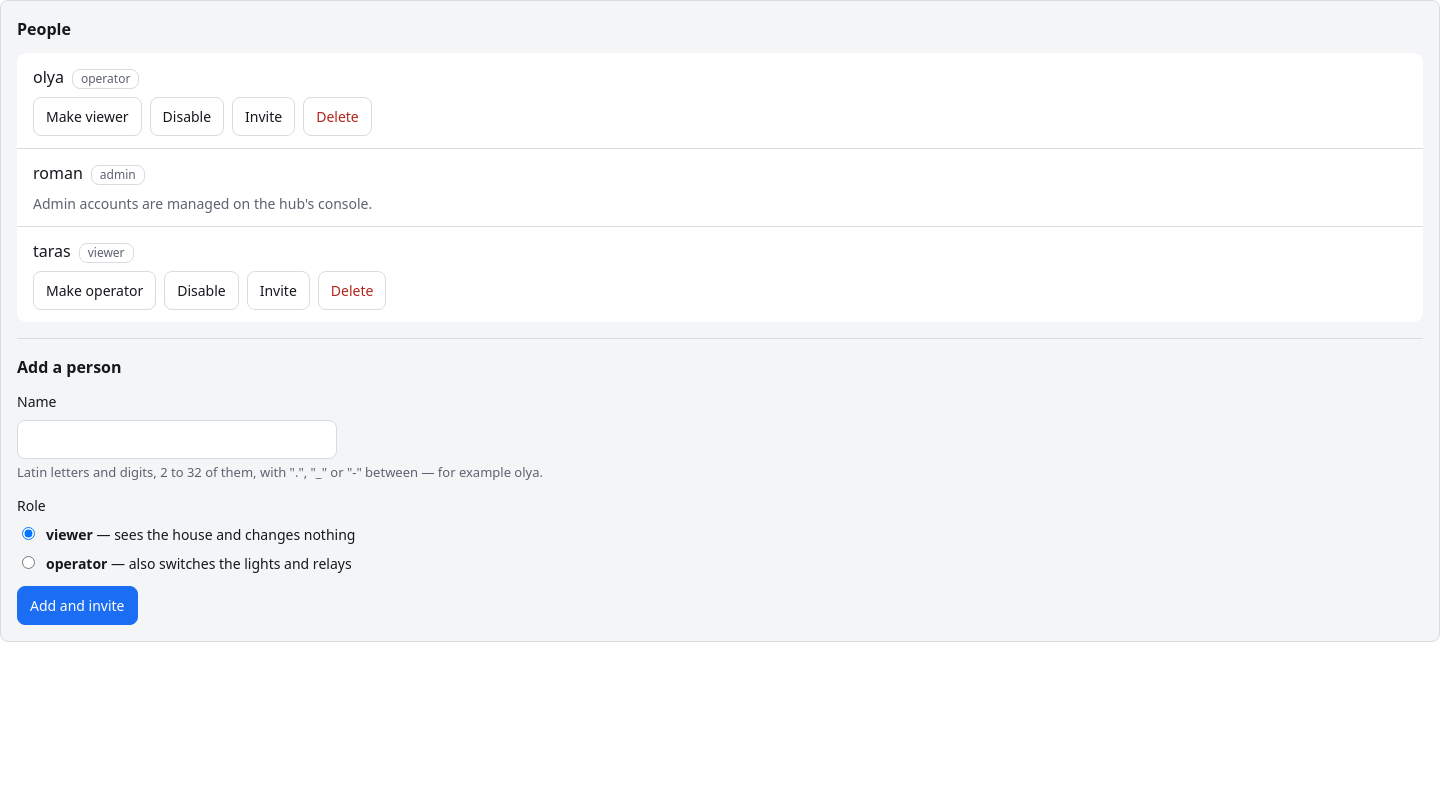
Test: PeoplePanel › changing an account › disables an account, after which it cannot be invited
What coordinates should you click on to do the following:
click the button "Disable" below "taras"
I would click on:
 (201, 290)
Its box is x1=164 y1=271 x2=239 y2=310.
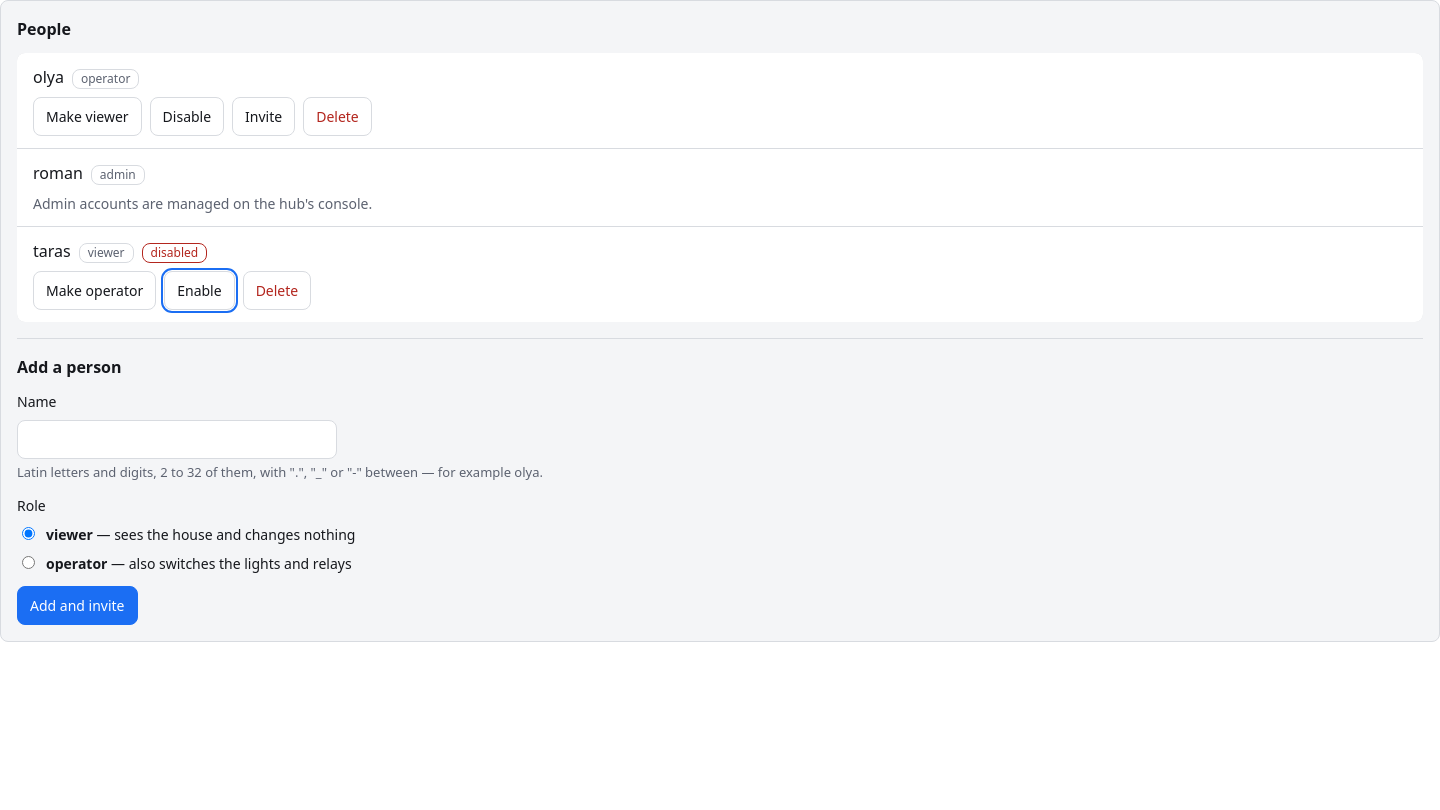
Expected: the text "disabled" is shown, x1=142 y1=243 x2=207 y2=263
